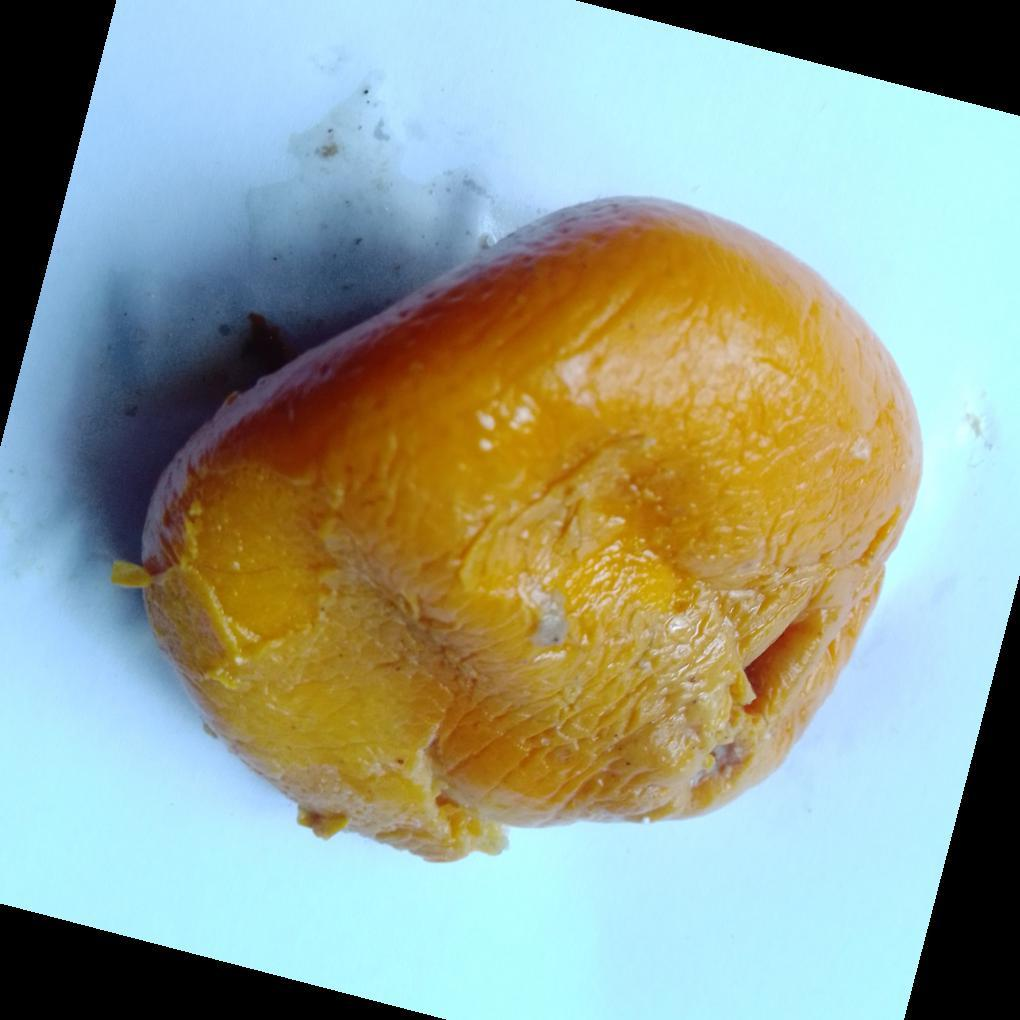FreshOrange: (113, 198, 924, 868)
